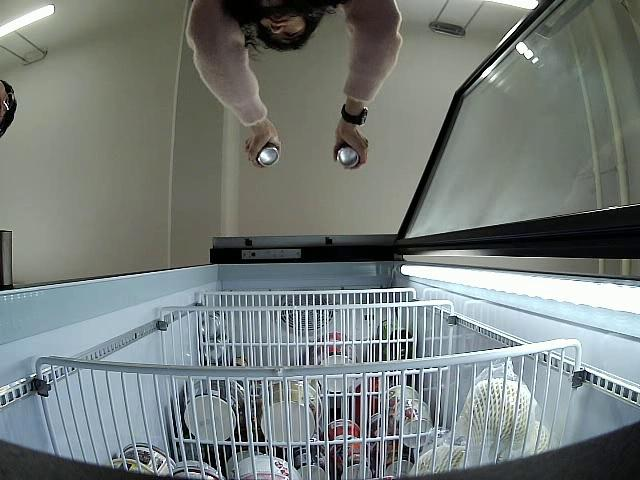00_hand: (329, 128, 369, 171), (243, 129, 283, 169)
